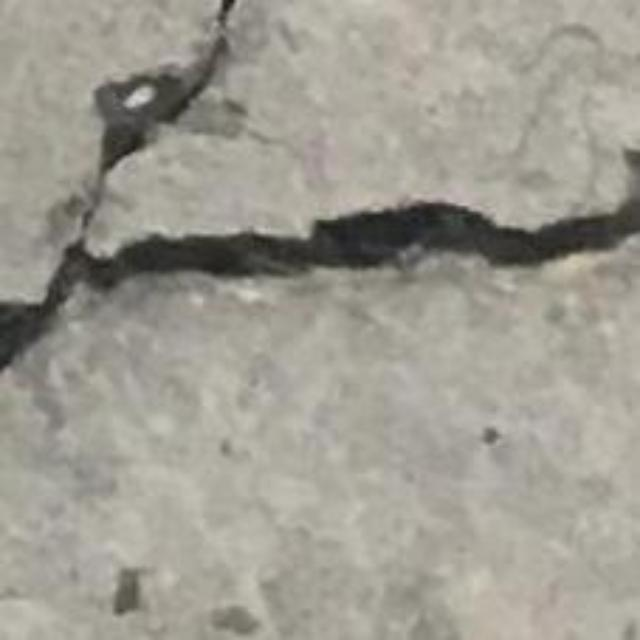crack: (0, 0, 639, 369)
